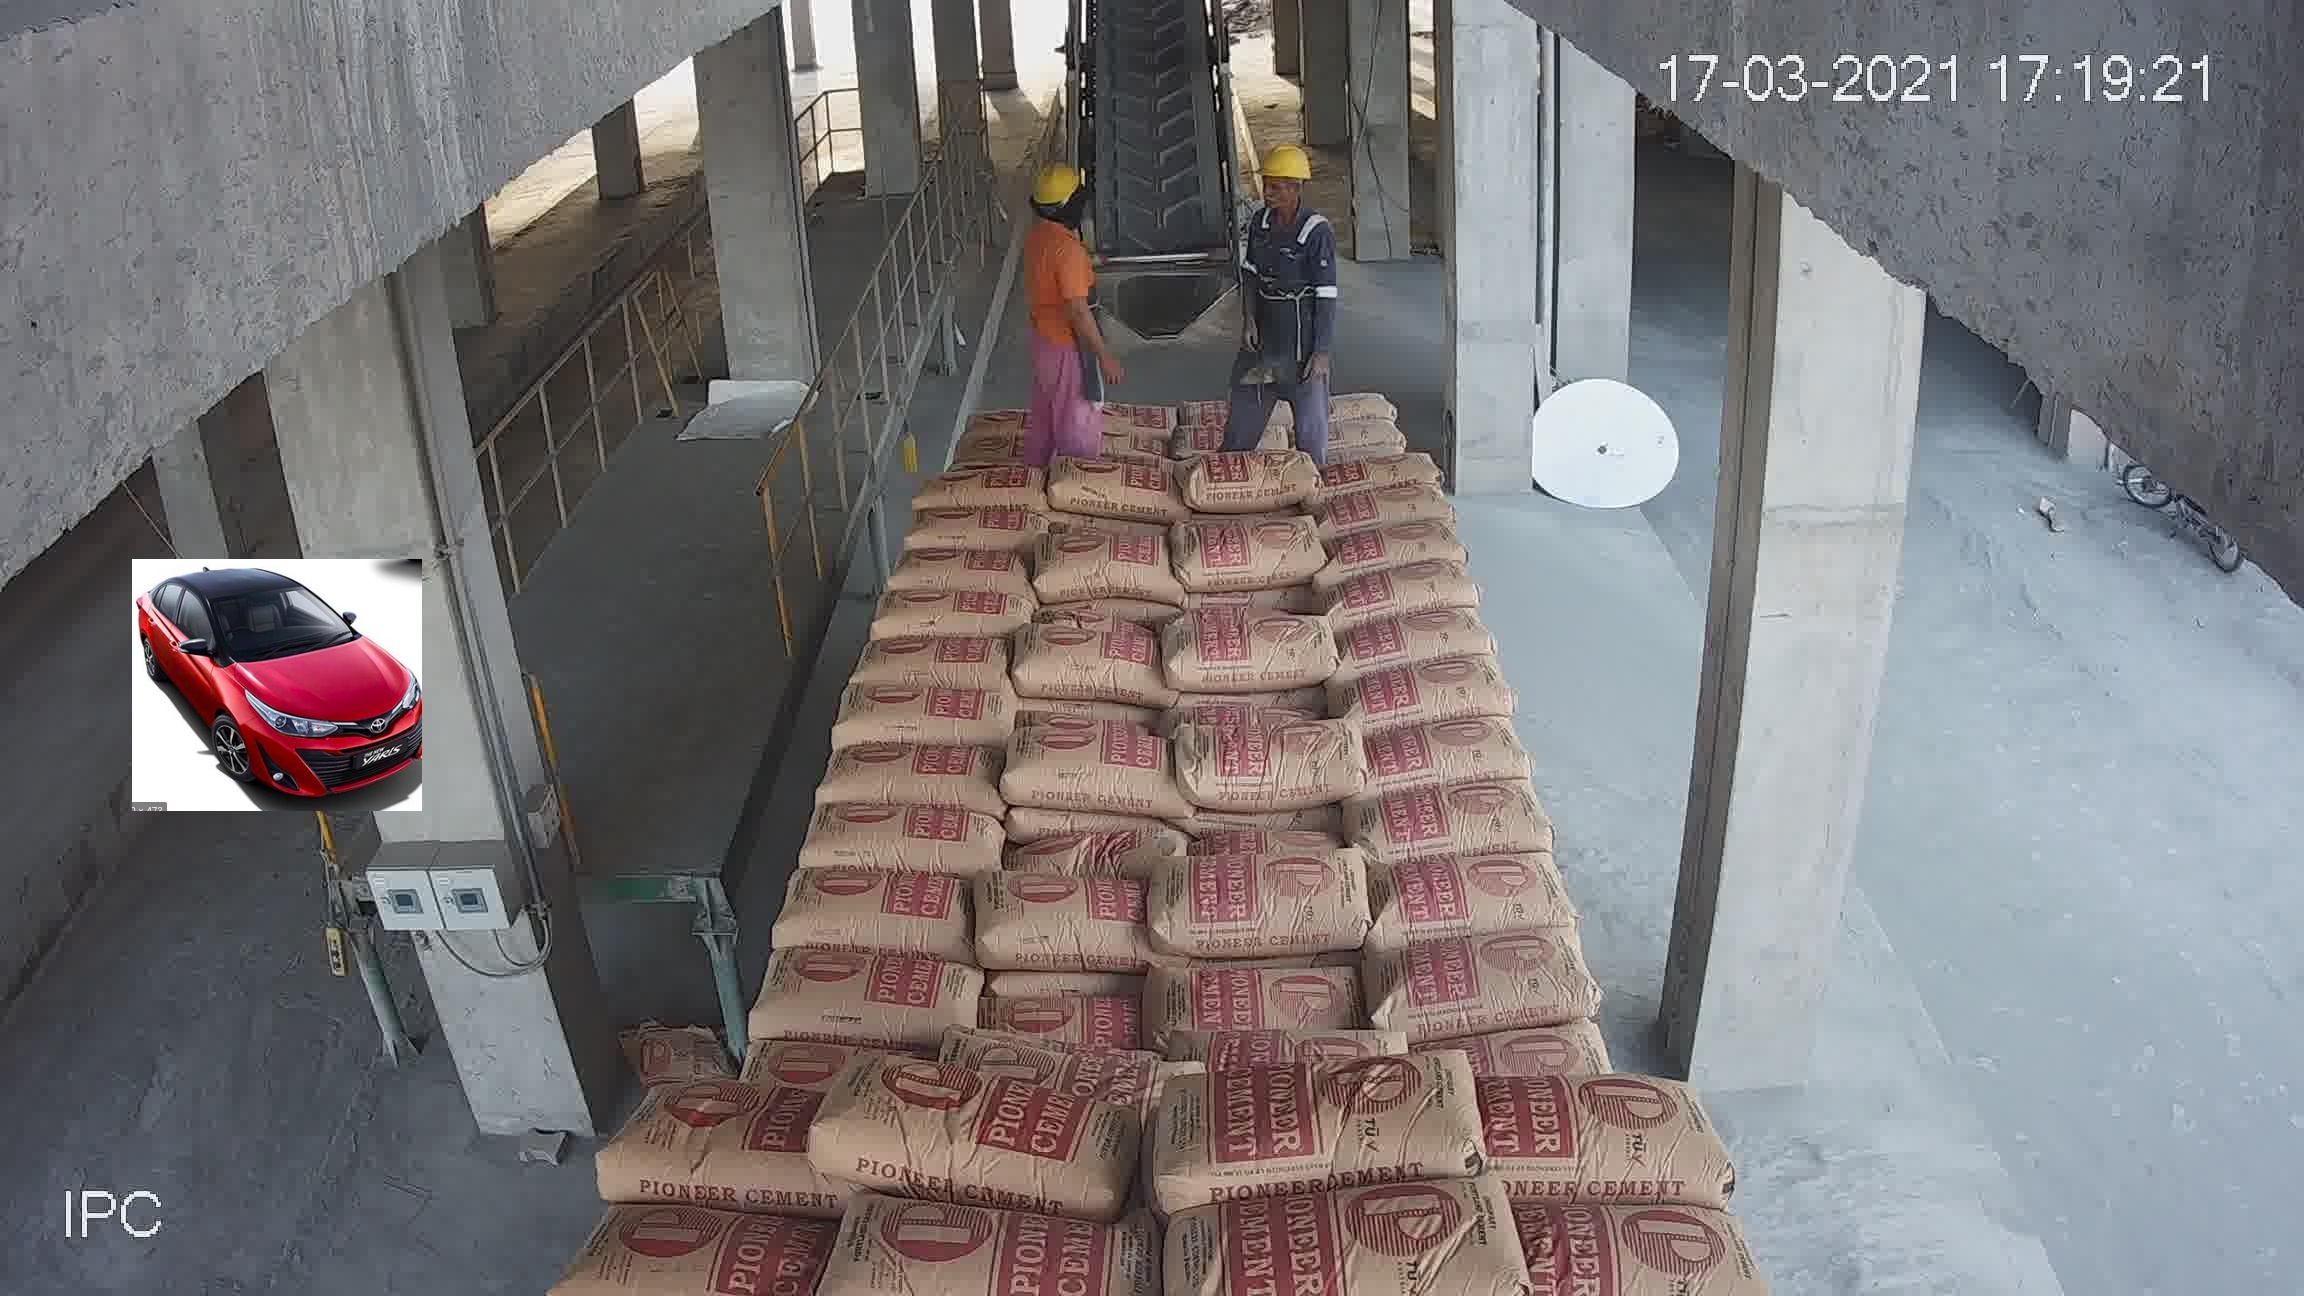bag_h: (1141, 1051, 1483, 1214), (777, 1060, 1152, 1203), (1141, 1169, 1521, 1285), (1481, 1065, 1725, 1206), (1138, 831, 1385, 954), (824, 1199, 1166, 1287), (584, 1078, 821, 1195), (1374, 926, 1593, 1044), (733, 949, 997, 1038), (961, 862, 1146, 976), (548, 1209, 817, 1287), (755, 864, 978, 957), (802, 791, 1032, 881), (983, 726, 1179, 828), (817, 717, 1017, 809), (1513, 1198, 1777, 1268), (1165, 1006, 1412, 1081), (1342, 782, 1552, 866), (1362, 853, 1576, 935), (1160, 600, 1351, 688), (1179, 714, 1366, 802), (829, 673, 1027, 753), (1362, 703, 1544, 790), (1343, 646, 1522, 733), (1133, 962, 1375, 1024), (940, 1029, 1184, 1089), (1419, 1013, 1622, 1084), (1021, 623, 1176, 712), (1176, 506, 1339, 589), (1002, 812, 1184, 880), (864, 578, 1036, 646), (1340, 600, 1497, 673), (1302, 513, 1465, 579), (1168, 435, 1320, 506), (976, 987, 1138, 1048), (1038, 533, 1173, 604), (907, 492, 1049, 555), (1038, 456, 1171, 521), (1332, 562, 1470, 623), (1320, 472, 1457, 532), (905, 456, 1055, 510), (847, 638, 1014, 684), (885, 540, 1032, 590), (1312, 446, 1443, 495), (1307, 415, 1412, 453), (1097, 392, 1196, 430), (1312, 381, 1402, 419)
belt: (1059, 24, 1247, 309)
